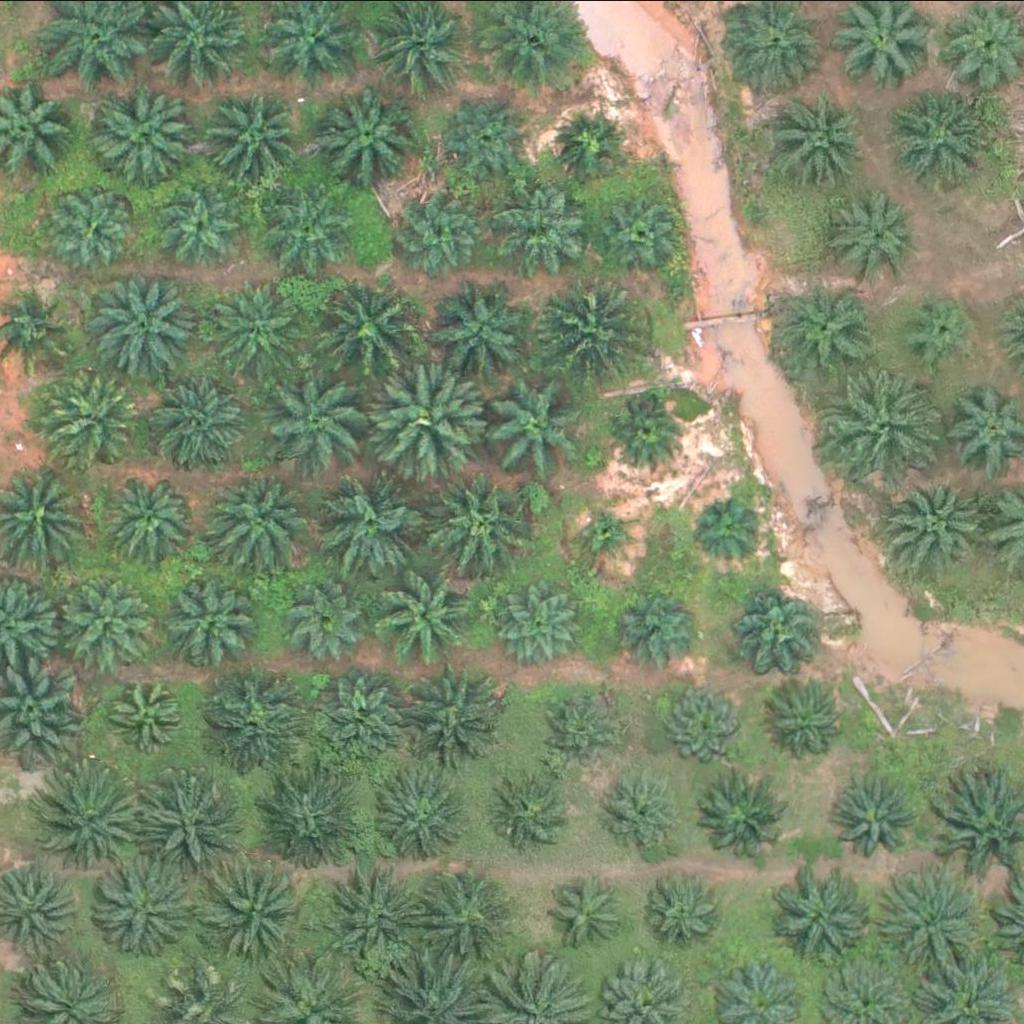Kelapa_Sawit: (204, 461, 318, 574), (829, 369, 943, 482), (200, 666, 313, 779), (370, 355, 483, 468), (305, 81, 418, 194), (264, 357, 378, 469), (31, 760, 144, 872), (139, 763, 252, 875), (252, 755, 365, 867), (314, 463, 427, 575), (416, 464, 529, 576), (479, 361, 592, 473), (85, 268, 198, 380), (310, 268, 423, 380), (531, 270, 644, 382), (88, 80, 201, 192), (871, 869, 984, 981), (210, 856, 311, 956), (326, 861, 427, 961), (418, 863, 519, 963), (369, 765, 470, 865), (60, 573, 161, 673), (373, 564, 474, 664), (36, 365, 137, 465), (199, 273, 300, 373), (433, 280, 534, 380), (777, 277, 878, 377), (500, 182, 601, 282), (200, 89, 301, 189), (769, 91, 870, 191), (890, 90, 991, 190), (100, 860, 200, 960), (774, 864, 874, 964), (396, 663, 496, 763), (150, 364, 250, 464), (886, 469, 986, 569), (641, 871, 730, 959), (495, 765, 583, 853), (160, 578, 248, 666), (281, 570, 369, 658), (501, 578, 589, 666), (740, 581, 828, 669), (545, 98, 633, 186), (153, 186, 241, 274), (832, 188, 920, 276), (767, 677, 855, 764), (660, 682, 748, 769), (539, 682, 627, 769), (548, 875, 636, 962), (599, 772, 687, 859), (699, 776, 787, 863), (106, 671, 194, 758), (323, 670, 411, 757), (607, 584, 695, 671), (113, 470, 201, 557), (44, 189, 132, 276), (271, 184, 359, 271), (396, 188, 484, 275), (600, 186, 688, 273), (441, 93, 529, 180), (836, 771, 924, 858), (608, 396, 684, 471), (902, 293, 978, 368), (691, 490, 766, 565), (580, 501, 643, 564)
